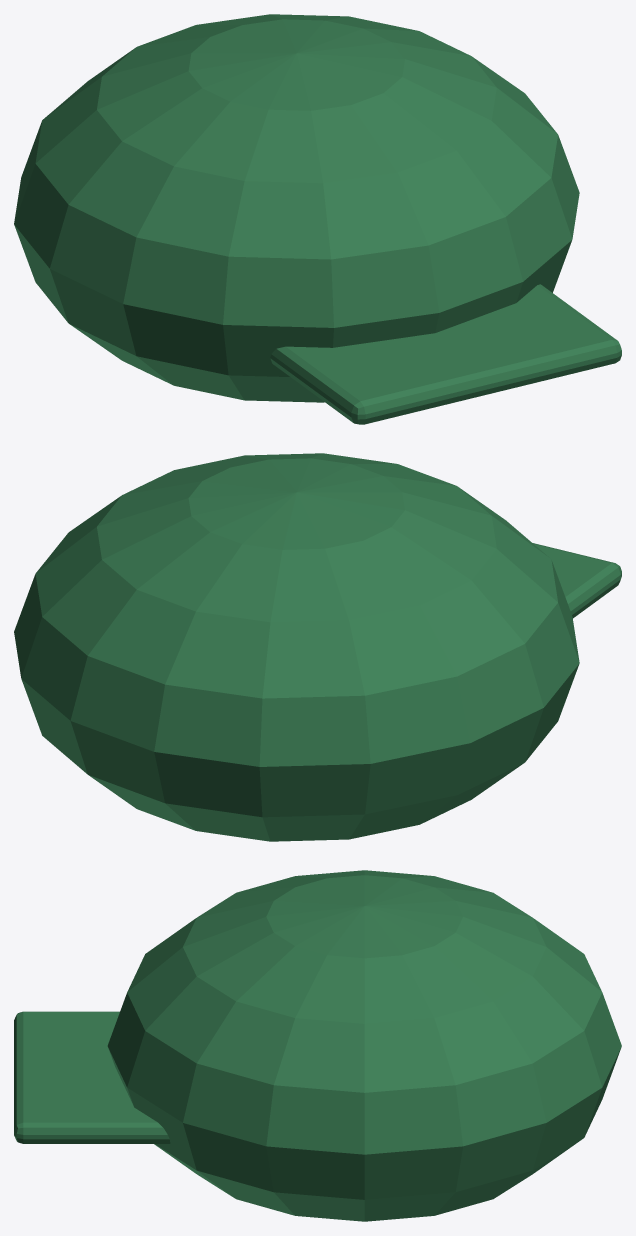
Rendered from volunteer-cap.glb.
The picture shows the model from 3 angles, top to bottom: view 1: azimuth 30°, elevation 25°; view 2: azimuth 150°, elevation 25°; view 3: azimuth 270°, elevation 25°; orthographic projection. The views are drawn at different scales.
Visible parts, largest first — view 1: volunteer-cap, cap-peak; view 2: volunteer-cap, cap-peak; view 3: volunteer-cap, cap-peak.
Boxes of the visible parts, <box> form: volunteer-cap: <box>14,14,579,402</box>; cap-peak: <box>270,284,621,424</box>; volunteer-cap: <box>14,453,579,841</box>; cap-peak: <box>533,543,621,618</box>; volunteer-cap: <box>107,870,621,1221</box>; cap-peak: <box>14,1011,170,1143</box>.
Size of the model in its own units: 0.44 by 0.264 by 0.52.
